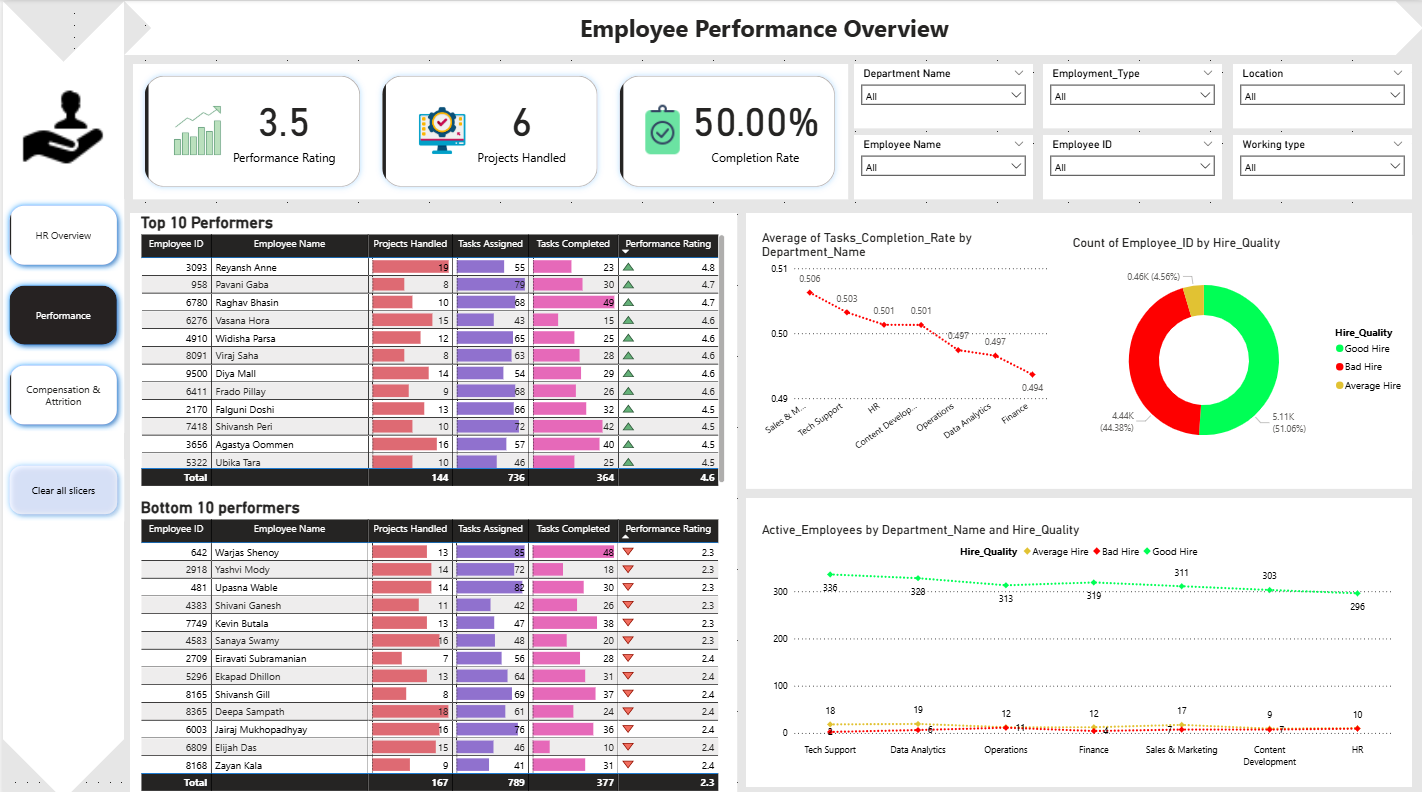

The dashboard page shown, as its layout file describes it:
{"tool":"powerbi","page":{"name":"Performance","canvas":[1920,1080],"ordinal":1},"visuals":[{"type":"shape","box":[163.6,0,1756.4,73],"z":0},{"type":"textbox","box":[774.8,8.1,534.1,56.8],"z":1000},{"type":"shape","box":[0,0,163.6,1080.3],"z":2000},{"type":"pageNavigator","box":[0,267.7,163.6,316.4],"z":3000},{"type":"cardVisual","fields":{"Data":["Avg(Performance.Performance_Rating)","Count(Performance.Projects_Handled)","Median(Performance.Tasks_Completion_Rate)"]},"box":[175.8,85.2,966.8,182.5],"z":4000},{"type":"slicer","fields":{"Values":["Department.Department_Name"]},"box":[1150.6,85.2,242,86.5],"z":5000},{"type":"slicer","fields":{"Values":["Employee.Name"]},"box":[1150.6,181.2,242,86.5],"z":6000},{"type":"slicer","fields":{"Values":["Employee.Employment_Type"]},"box":[1406.2,85.2,242,86.5],"z":7000},{"type":"slicer","fields":{"Values":["Department.Location"]},"box":[1663.1,85.2,242,86.5],"z":8000},{"type":"slicer","fields":{"Values":["Employee.Work_Location"]},"box":[1663.1,181.2,242,86.5],"z":9000},{"type":"slicer","fields":{"Values":["Employee.Employee_ID"]},"box":[1406.2,181.2,242,86.5],"z":10000},{"type":"shape","box":[171.3,286.5,821.2,793.1],"z":11000},{"type":"tableEx","title":"Top 10 Performers","fields":{"Values":["Employee.Employee_ID","Employee.Name","Sum(Performance.Projects_Handled)","Sum(Performance.Tasks_Assigned)","Sum(Performance.Tasks_Completed)","Avg(Performance.Performance_Rating)"]},"box":[181.7,286.5,800.5,373.7],"z":12000},{"type":"tableEx","title":"Bottom 10 performers","fields":{"Values":["Employee.Employee_ID","Employee.Name","Sum(Performance.Projects_Handled)","Sum(Performance.Tasks_Assigned)","Sum(Performance.Tasks_Completed)","Avg(Performance.Performance_Rating)"]},"box":[181.7,672,800.5,407.6],"z":13000},{"type":"shape","box":[1004.6,286.6,900.5,373.2],"z":14000},{"type":"lineChart","fields":{"Y":["Avg(Performance.Tasks_Completion_Rate)"],"Category":["Department.Department_Name"]},"box":[1020.8,309.6,396.2,313.7],"z":15000},{"type":"shape","box":[1004.6,672,900.5,390.8],"z":16000},{"type":"lineChart","fields":{"Series":["Employee.Hire_Quality"],"Y":["Employee.Active_Employees"],"Category":["Department.Department_Name"]},"box":[1020.8,704.5,872.1,339.4],"z":17000},{"type":"donutChart","fields":{"Category":["Employee.Hire_Quality"],"Y":["Count(Employee.Employee_ID)"]},"box":[1441.4,316.4,463.8,319.1],"z":18000},{"type":"actionButton","box":[0,619.3,163.6,83.8],"z":19000},{"type":"image","box":[17.1,107.1,127.1,127.1],"z":20000}]}

Visuals, with their boxes in screenshot pixels (x1, y1, x2, y2), scaled from the page's 1920x1080 canvas onto the 1422x792 screenshot:
shape: {"x1": 121, "y1": 0, "x2": 1421, "y2": 54}
textbox: {"x1": 574, "y1": 6, "x2": 969, "y2": 48}
shape: {"x1": 0, "y1": 0, "x2": 121, "y2": 791}
pageNavigator: {"x1": 0, "y1": 196, "x2": 121, "y2": 428}
cardVisual - Avg(Performance.Performance_Rating) x Count(Performance.Projects_Handled): {"x1": 130, "y1": 62, "x2": 846, "y2": 196}
slicer - Department.Department_Name: {"x1": 852, "y1": 62, "x2": 1031, "y2": 126}
slicer - Employee.Name: {"x1": 852, "y1": 133, "x2": 1031, "y2": 196}
slicer - Employee.Employment_Type: {"x1": 1041, "y1": 62, "x2": 1221, "y2": 126}
slicer - Department.Location: {"x1": 1232, "y1": 62, "x2": 1411, "y2": 126}
slicer - Employee.Work_Location: {"x1": 1232, "y1": 133, "x2": 1411, "y2": 196}
slicer - Employee.Employee_ID: {"x1": 1041, "y1": 133, "x2": 1221, "y2": 196}
shape: {"x1": 127, "y1": 210, "x2": 735, "y2": 791}
"Top 10 Performers" tableEx: {"x1": 135, "y1": 210, "x2": 727, "y2": 484}
"Bottom 10 performers" tableEx: {"x1": 135, "y1": 493, "x2": 727, "y2": 791}
shape: {"x1": 744, "y1": 210, "x2": 1411, "y2": 484}
lineChart - Avg(Performance.Tasks_Completion_Rate) x Department.Department_Name: {"x1": 756, "y1": 227, "x2": 1049, "y2": 457}
shape: {"x1": 744, "y1": 493, "x2": 1411, "y2": 779}
lineChart - Employee.Hire_Quality x Employee.Active_Employees: {"x1": 756, "y1": 517, "x2": 1402, "y2": 766}
donutChart - Employee.Hire_Quality x Count(Employee.Employee_ID): {"x1": 1068, "y1": 232, "x2": 1411, "y2": 466}
actionButton: {"x1": 0, "y1": 454, "x2": 121, "y2": 516}
image: {"x1": 13, "y1": 79, "x2": 107, "y2": 172}
